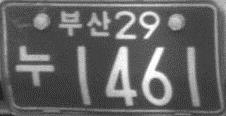1: (184, 45, 202, 109), (75, 44, 92, 106)
2: (113, 9, 138, 41)
4: (103, 43, 137, 106)
6: (140, 47, 173, 107)
9: (138, 9, 160, 40)
누: (14, 44, 56, 86)
부산_O: (57, 8, 111, 36)
